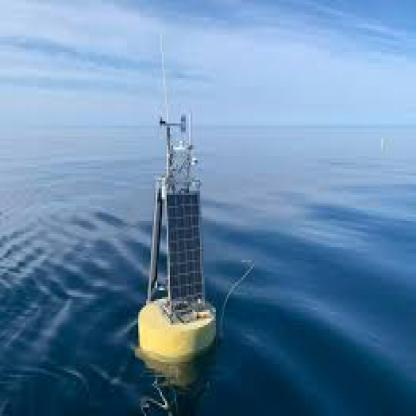buoy: (117, 22, 224, 379)
